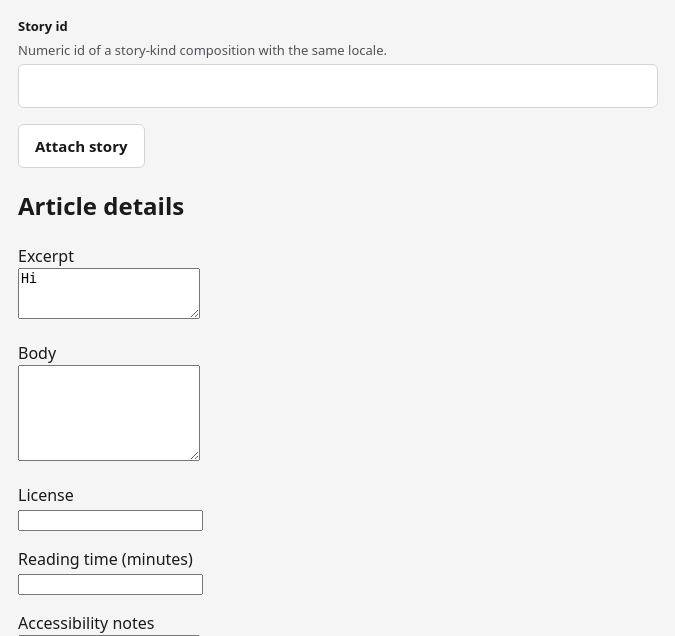
ContentEditPage family sections (PU-10) › saves article metadata through the family section with If-Match
(page scrolled)
Replace the text in the text box labelled "Excerpt" with "Family excerpt" at x=109, y=294, box [18,268,200,319]
(page scrolled)
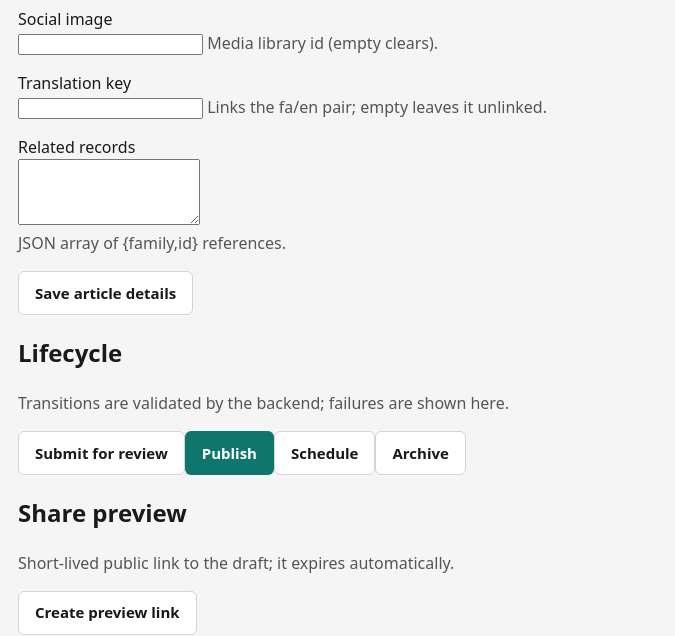
Click the button "Save article details".
click(106, 293)  # box [18,271,193,315]
(page scrolled)
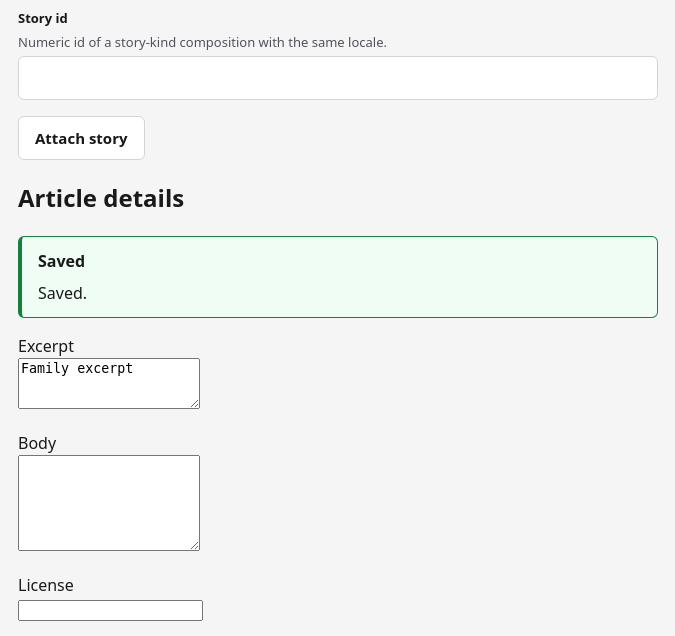
Expected: the text "Saved." is shown, [38,282,87,304]
